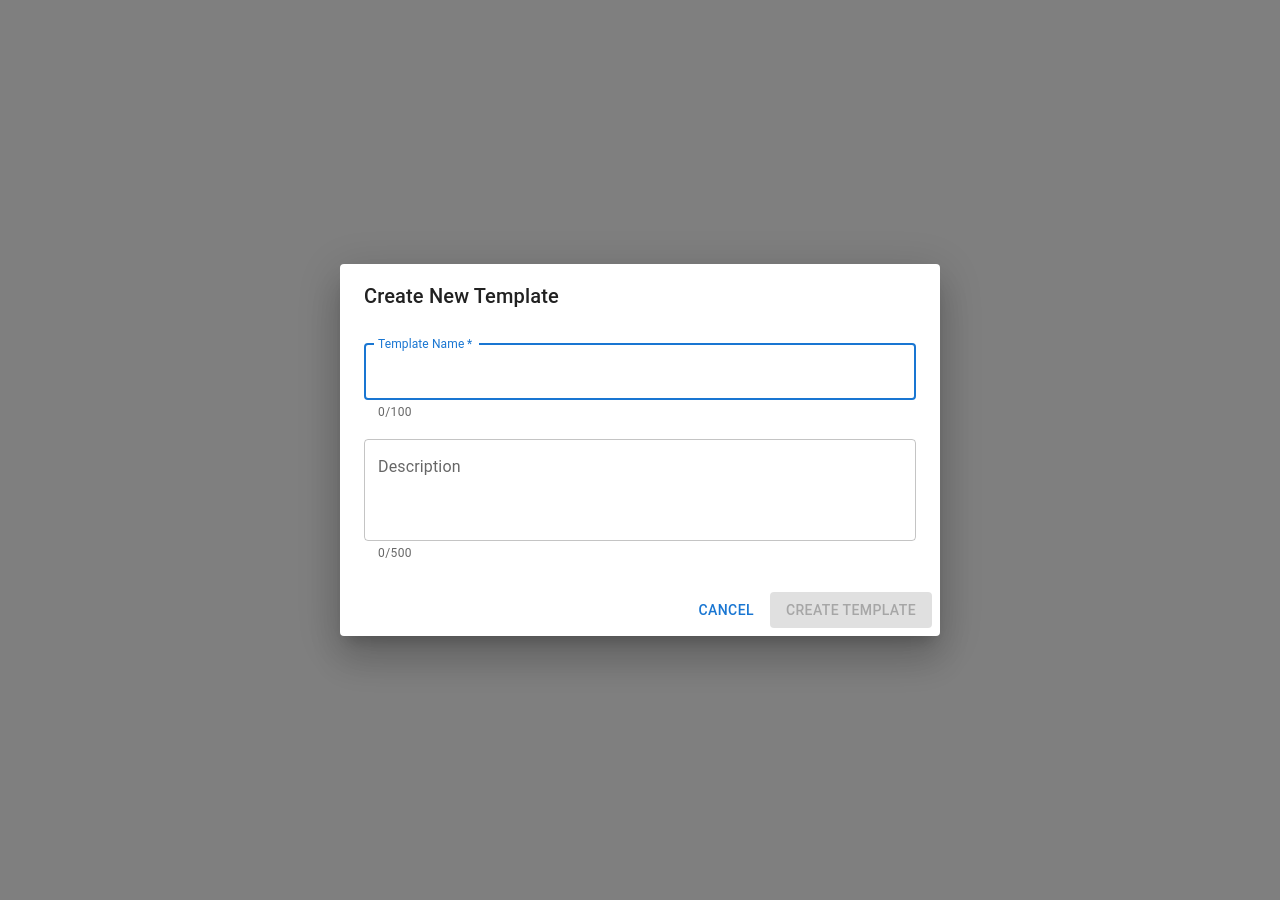
Test case: TemplateCreationDialog › handles API errors gracefully
Step 1. Type "Test Template" into the field labelled "Template Name *" → (640,372), box [364,344,916,400]
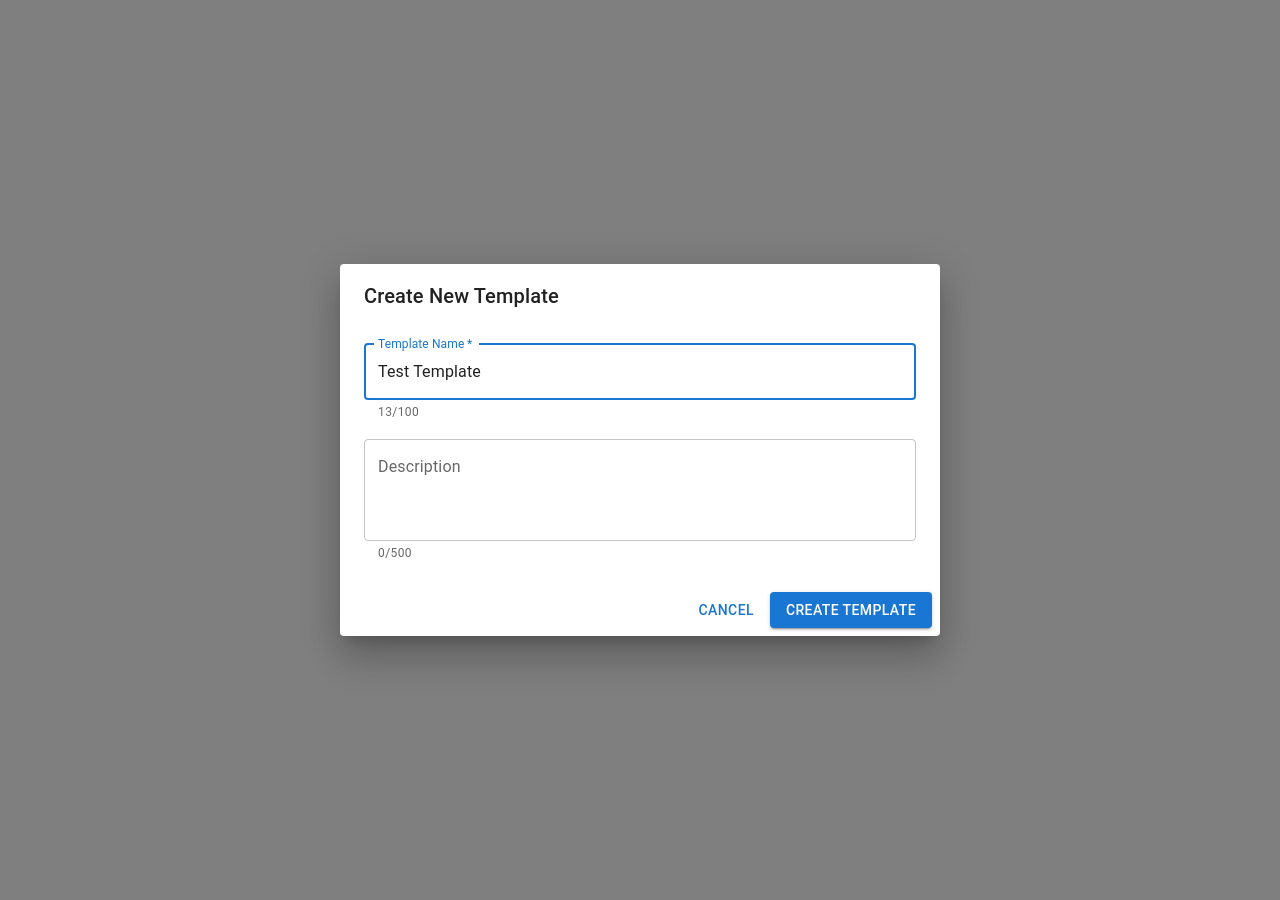
Step 2. Click the button "Create Template" → (851,610), box [770,592,932,628]
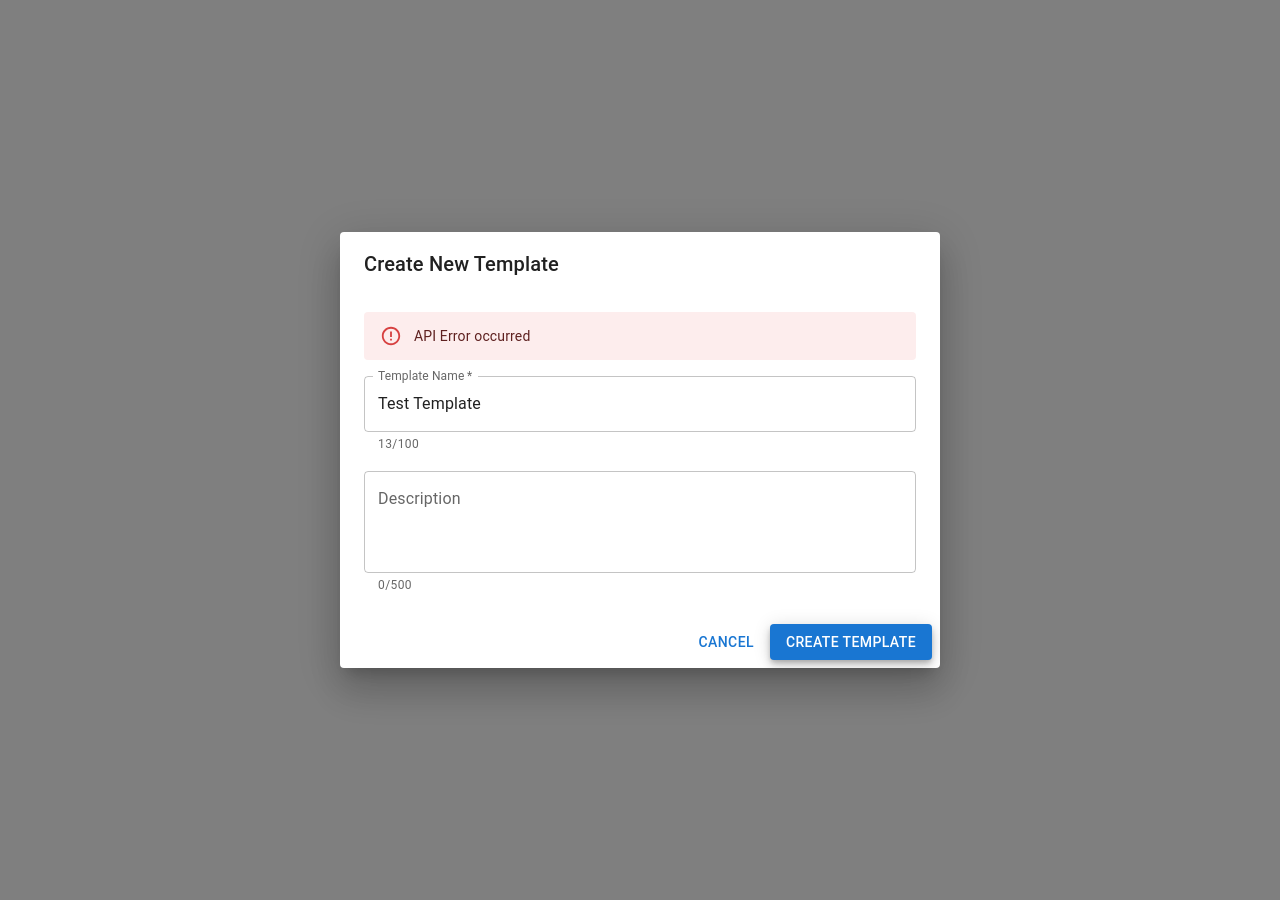
Expected: the text "API Error occurred" is shown, [414,328,530,344]
